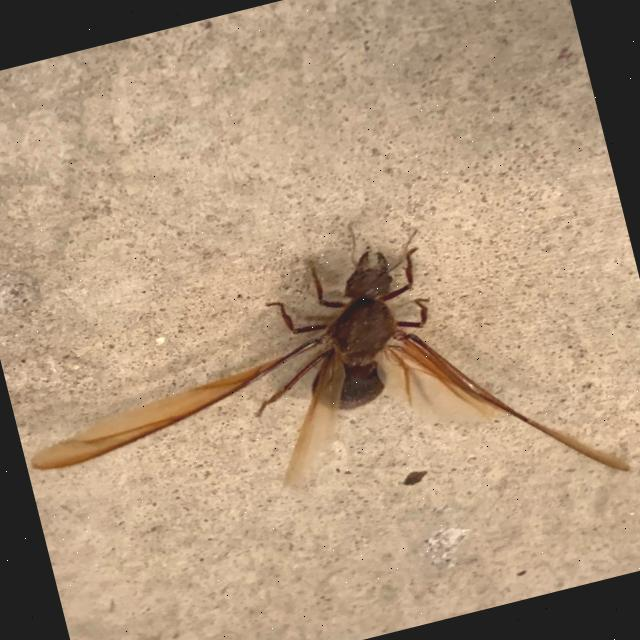Alive-Female-Alate: (0, 169, 630, 611)
